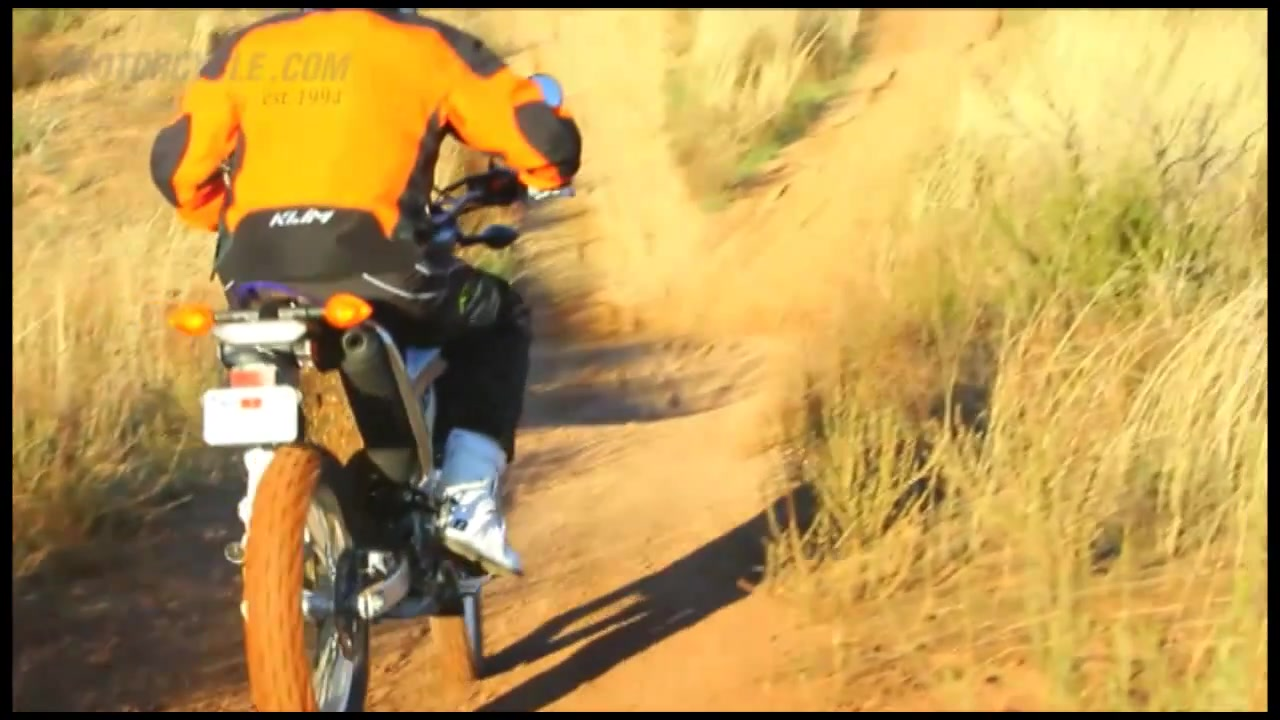motorbike: (167, 70, 580, 717)
